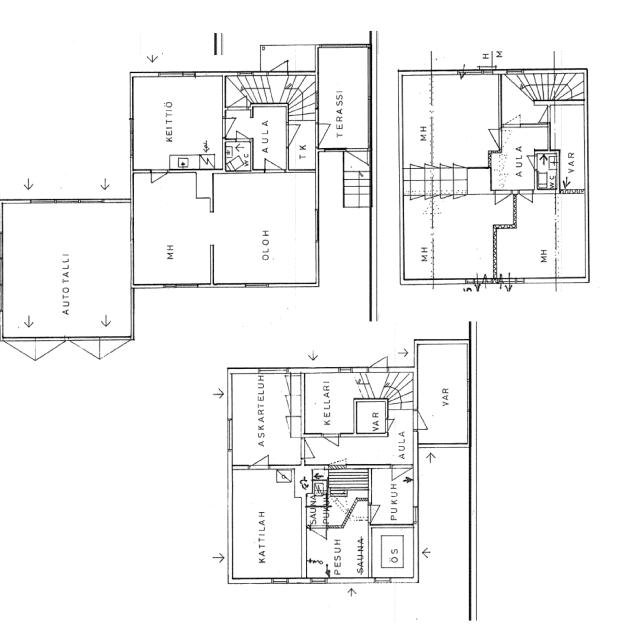door: (99, 336, 130, 373), (68, 336, 99, 373), (3, 336, 34, 372), (34, 336, 64, 372), (316, 124, 339, 146), (392, 464, 411, 490), (286, 125, 309, 146), (348, 148, 368, 172), (369, 348, 387, 374), (269, 52, 287, 77), (250, 445, 268, 469), (301, 439, 323, 458), (228, 88, 247, 110), (265, 150, 283, 173), (222, 118, 242, 136), (482, 129, 502, 147), (414, 412, 434, 429), (323, 433, 339, 454), (151, 169, 167, 190), (495, 190, 511, 211), (368, 506, 387, 522), (310, 526, 326, 544), (533, 108, 550, 122), (520, 190, 532, 208), (236, 125, 248, 142), (522, 156, 537, 169), (385, 419, 399, 432)
